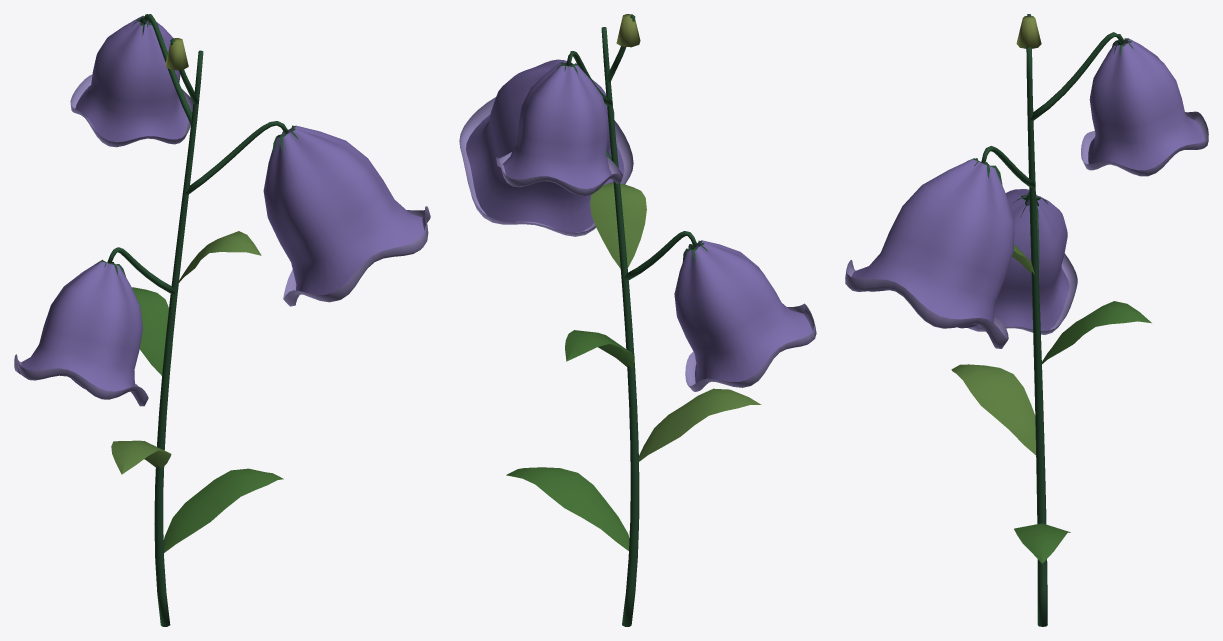
File: meadow_bellflower.hi.glb
The picture shows the model from 3 angles, left to right: view 1: azimuth 30°, elevation 25°; view 2: azimuth 150°, elevation 25°; view 3: azimuth 270°, elevation 25°; orthographic projection. The views are drawn at different scales.
Visible parts, largest first — view 1: body; view 2: body; view 3: body.
Part boxes in pixels (bbox=[...]): body: bbox=[14, 14, 430, 626]; body: bbox=[459, 14, 816, 626]; body: bbox=[845, 14, 1208, 626].
Bounding box in the file's own units: 0.3882 × 0.5902 × 0.3174.
